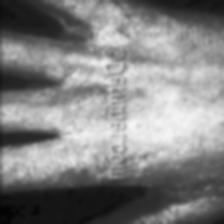Toxin: (150, 176, 224, 210), (40, 165, 104, 188), (72, 19, 132, 41), (44, 119, 96, 144), (47, 72, 96, 92), (109, 220, 196, 224)
